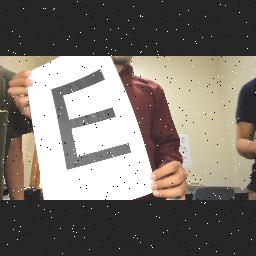e: (46, 64, 136, 176)
